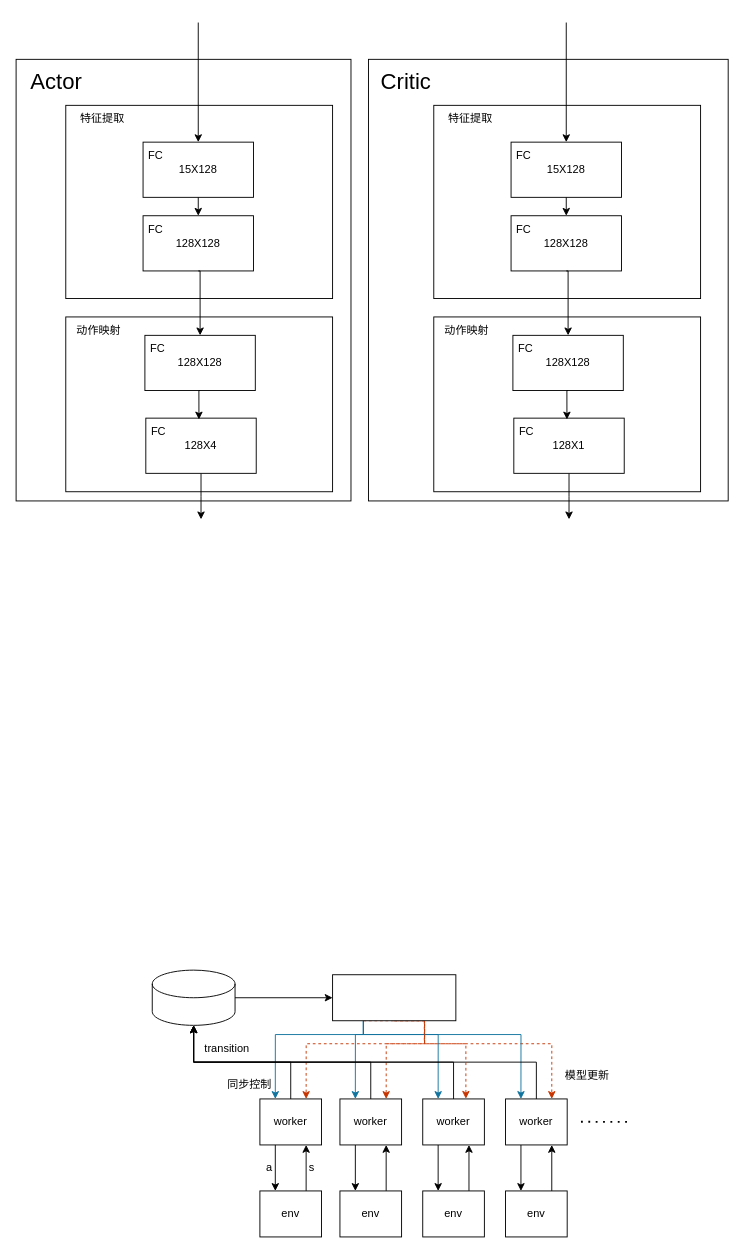
This 744x1253 diagram has some shape labels left out. Here are the shapes that lost their labels. From the top down, the box of each, then its label:
(151, 969, 235, 1025): replaybuffer
(332, 974, 456, 1021): master
